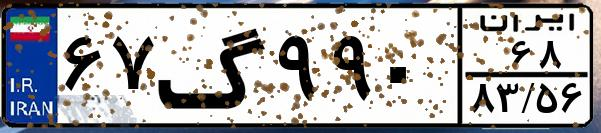0: (385, 28, 445, 110)
3: (495, 70, 520, 125)
5: (535, 70, 560, 125)
6: (57, 26, 110, 100), (560, 70, 590, 125), (508, 27, 537, 80)
7: (110, 28, 156, 98)
8: (537, 27, 568, 80), (470, 70, 495, 125)
9: (270, 28, 330, 110), (330, 28, 385, 110)
گ: (156, 12, 270, 120)
